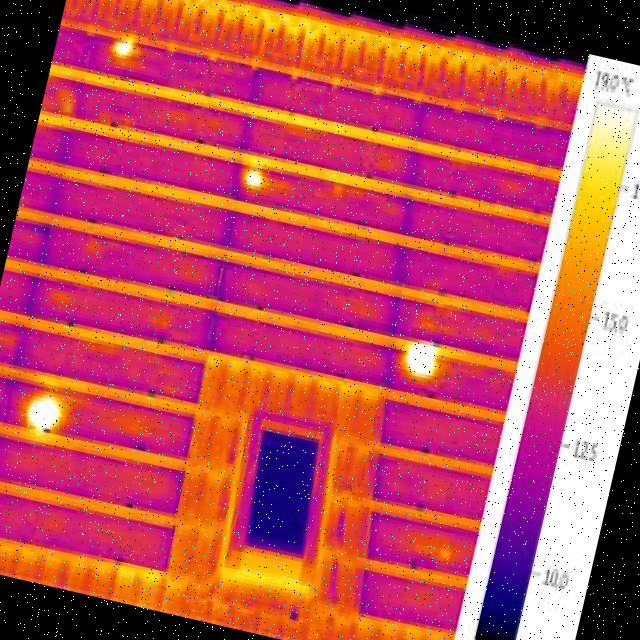Hotspot: (9, 374, 86, 448), (386, 326, 449, 388), (106, 27, 140, 64), (234, 158, 266, 194)
